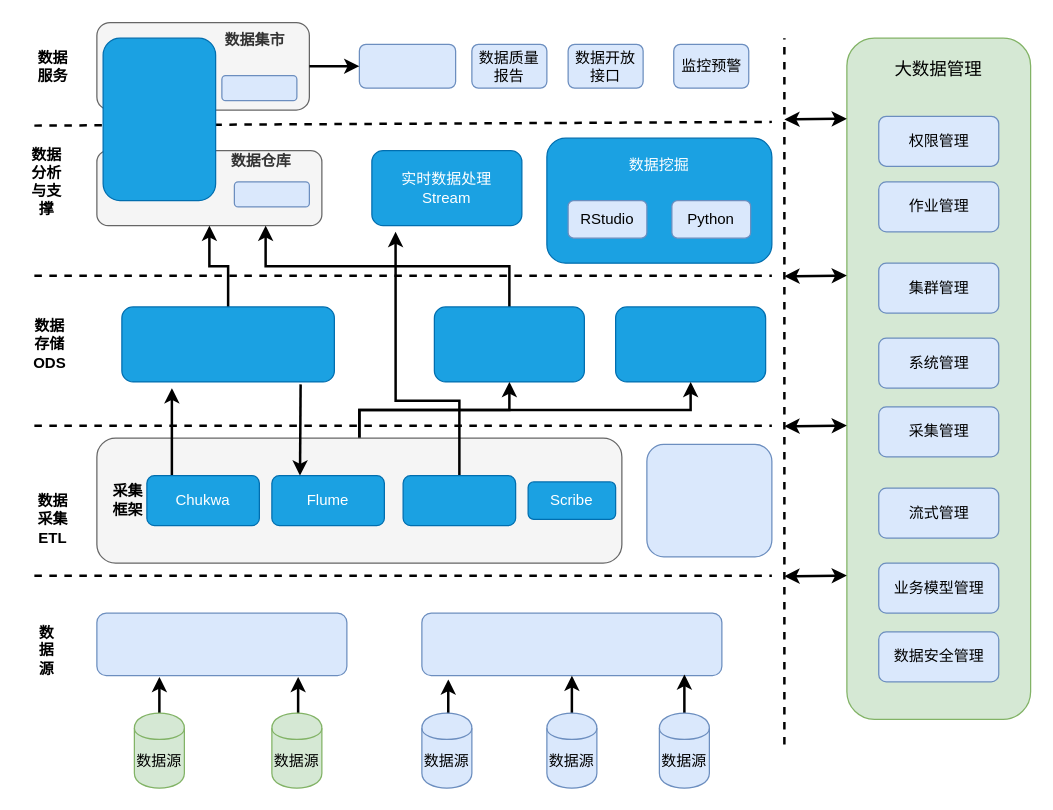
This 1053x810 diagram has some shape labels left out. Each missing label, with the centre of its shape:
Cassandra: the point at 508,344
HBase: the point at 690,344
HDFS: the point at 227,344
Kafka: the point at 459,500
ORC: the point at 271,194
SQL搜索引擎: the point at 159,119
交互式图表 分析: the point at 407,65
数据cube: the point at 259,87
数据治理: the point at 709,500
结构化数据: the point at 221,644
非结构化数据: the point at 571,644
